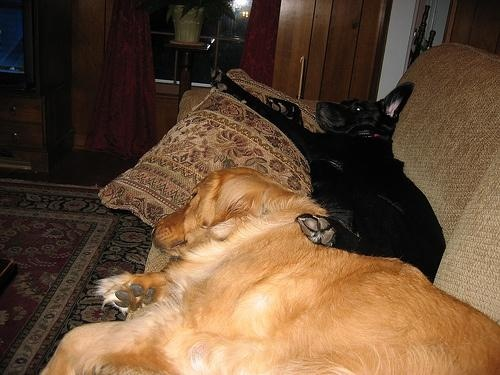dog: (43, 170, 500, 375), (208, 71, 443, 281)
pottedplant: (161, 1, 228, 43)
sofa: (112, 42, 500, 375)
tvmonitor: (1, 1, 44, 94)
